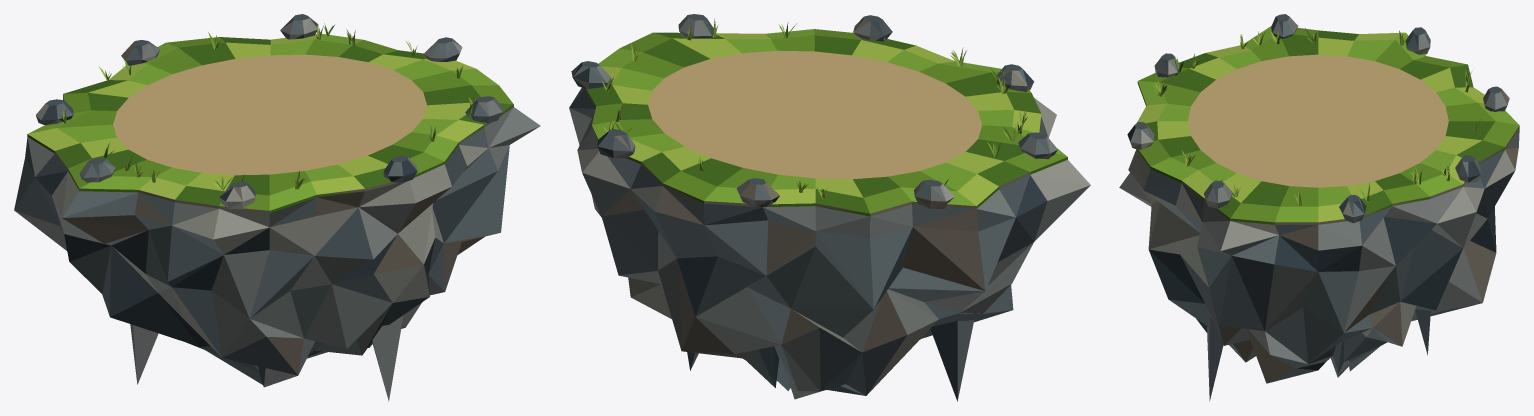
Rendered from island.glb.
The picture shows the model from 3 angles, left to right: view 1: azimuth 30°, elevation 25°; view 2: azimuth 150°, elevation 25°; view 3: azimuth 270°, elevation 25°; orthographic projection. The views are drawn at different scales.
Visible parts, largest first — view 1: ENV_FloatingIsland_Visual; view 2: ENV_FloatingIsland_Visual; view 3: ENV_FloatingIsland_Visual.
Boxes of the visible parts, box(x1,y1,x2,y2) form: ENV_FloatingIsland_Visual: box(14, 14, 540, 401); ENV_FloatingIsland_Visual: box(569, 14, 1090, 401); ENV_FloatingIsland_Visual: box(1119, 14, 1519, 401).
Bounding box in the file's own units: 8.28 × 4.86 × 6.57.
